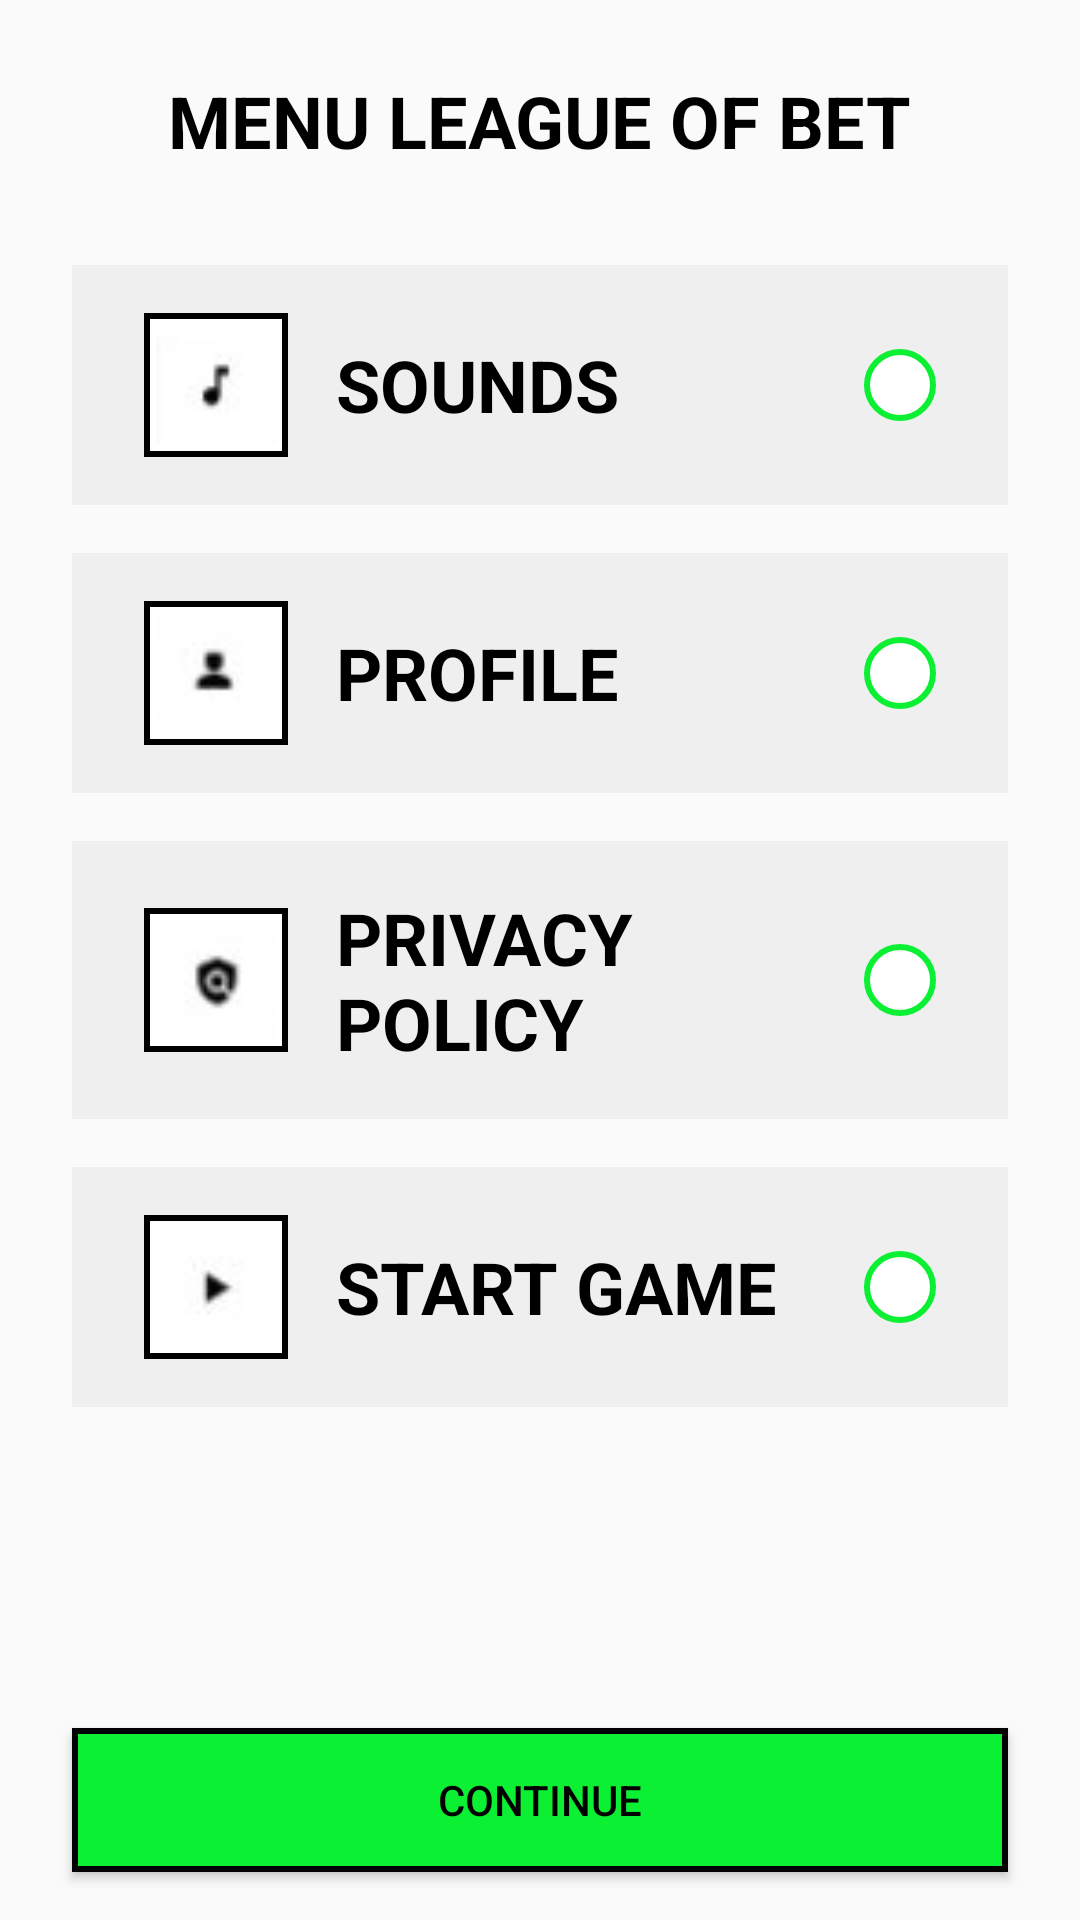

Point at icon controls on the screen. Image size 1080 × 1920, points as point (x, y).
play: point (216, 1287)
radio: point (900, 385), point (900, 673), point (900, 980), point (900, 1287)
